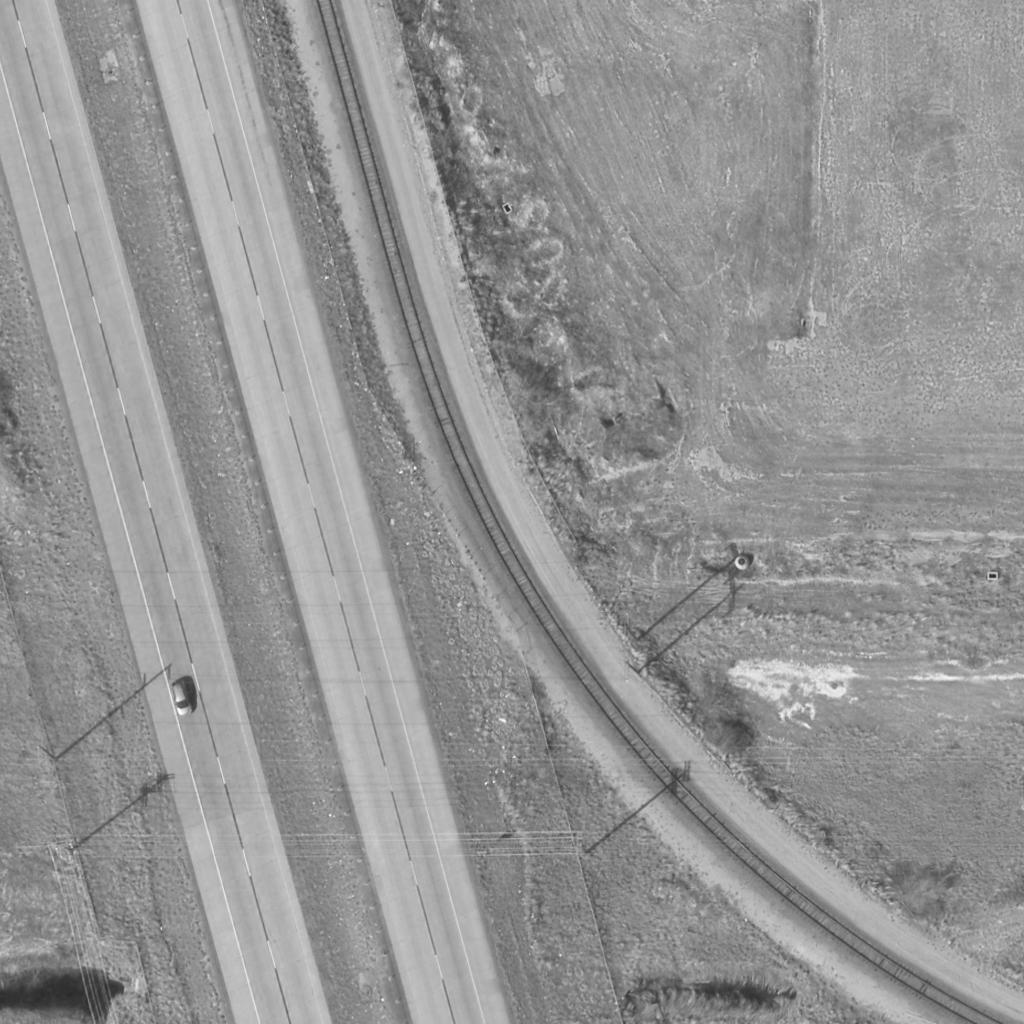vehicle: (169, 679, 193, 719)
